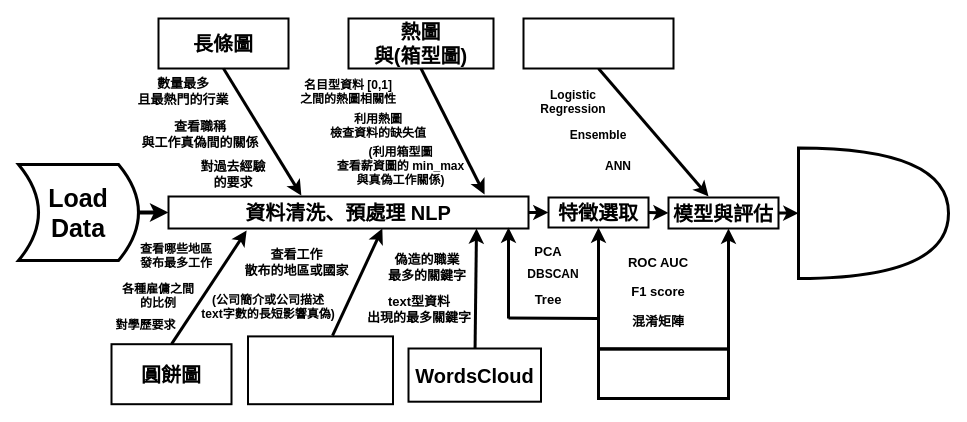
This 967x422 diagram has some shape labels left out. Each missing label, with the box of its shape:
AI模型: (522, 17, 674, 69)
地圖+散布圖 (長條+折線圖): (246, 335, 394, 405)
模型評估: (596, 347, 730, 400)
預測出 虛假的職位: (796, 146, 950, 280)
